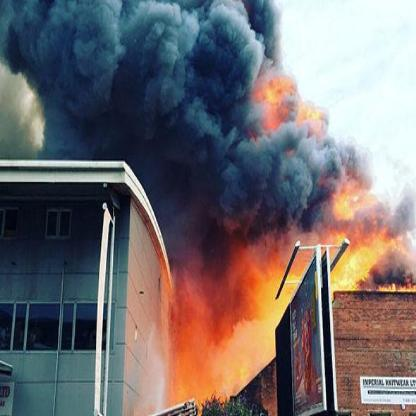fire: (325, 172, 416, 295), (260, 75, 323, 129), (248, 264, 300, 324)
